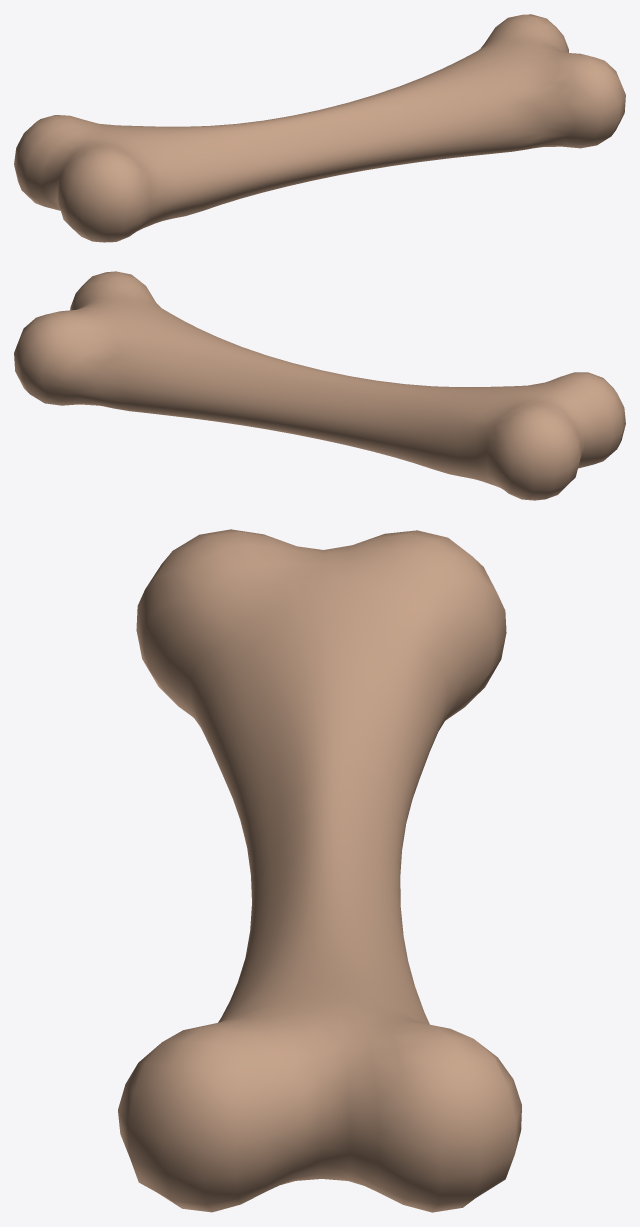
Rendered from bone.fbx.
3 renders of one model, top to bottom at view 1: azimuth 30°, elevation 25°; view 2: azimuth 150°, elevation 25°; view 3: azimuth 270°, elevation 25°, orthographic. The views are drawn at different scales.
Parts seen in each view (by area): view 1: bone; view 2: bone; view 3: bone.
Part boxes in pixels (x1=…): bone: x1=14, y1=14, x2=625, y2=242; bone: x1=14, y1=271, x2=625, y2=500; bone: x1=118, y1=529, x2=521, y2=1212.
Size of the model in its own units: 360 by 64.91 by 115.
